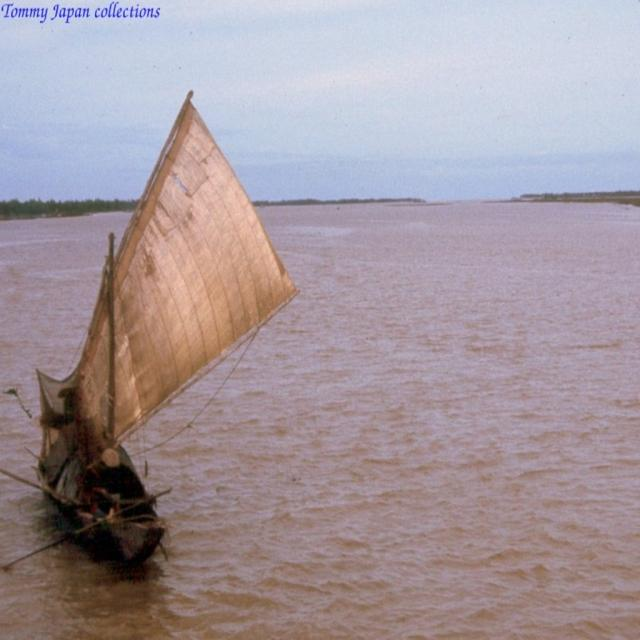Boat: (12, 92, 285, 574)
